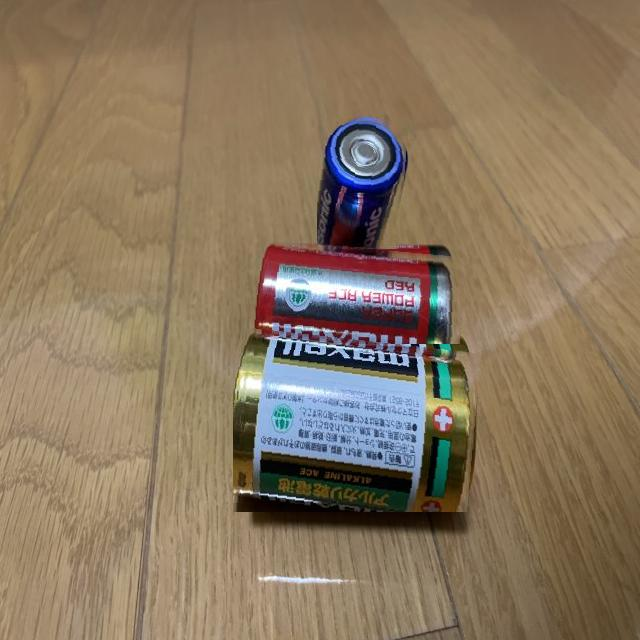battery: (233, 326, 481, 512), (247, 238, 467, 344), (318, 117, 410, 249)
